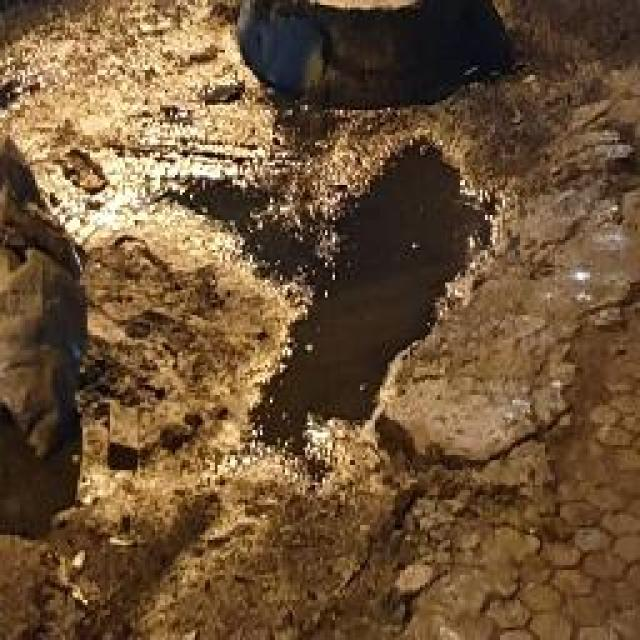stagnation: (164, 140, 496, 464)
